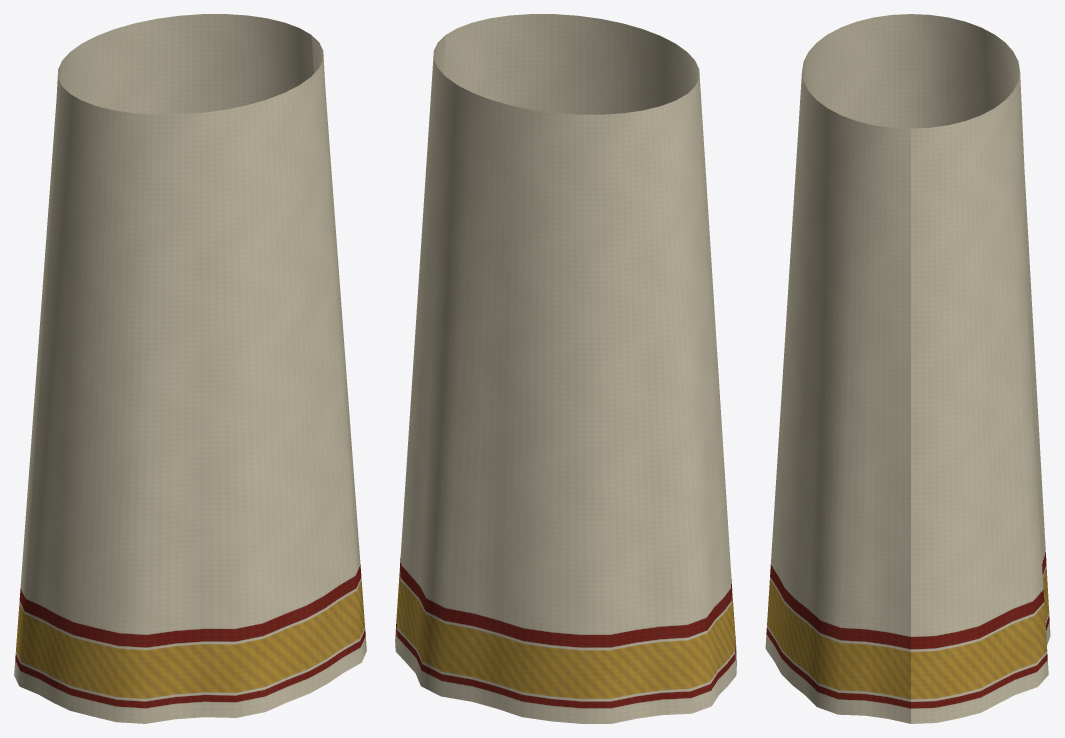
The model's file is cloth_mundu_kasavu.glb.
3 views of the same model, side by side, from view 1: azimuth 30°, elevation 25°; view 2: azimuth 150°, elevation 25°; view 3: azimuth 270°, elevation 25° (orthographic). The views are drawn at different scales.
Parts seen in each view (by area): view 1: Cloth_Mundu_Kasavu; view 2: Cloth_Mundu_Kasavu; view 3: Cloth_Mundu_Kasavu.
Boxes of the visible parts, x1,y1,x2,y2 form: Cloth_Mundu_Kasavu: (14, 14, 366, 723); Cloth_Mundu_Kasavu: (395, 14, 736, 723); Cloth_Mundu_Kasavu: (765, 14, 1050, 723).
Size of the model in its own units: 0.5138 by 0.92 by 0.4116.
1 material, 1 textured.
